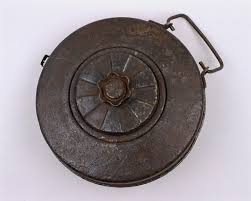car: (22, 11, 239, 201)
